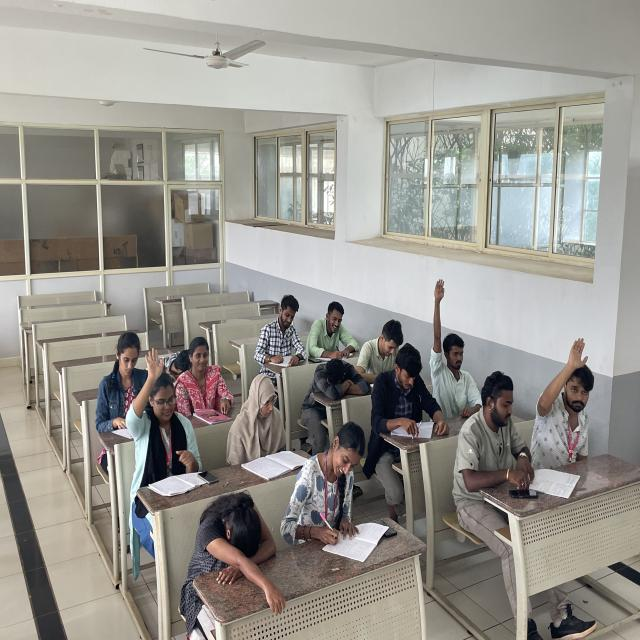Hand Rising: (128, 346, 195, 475), (532, 337, 598, 452), (426, 278, 482, 413)
Reading: (480, 373, 544, 488), (98, 330, 148, 443), (246, 368, 297, 472), (257, 286, 309, 376)
Sleeping: (196, 491, 279, 571), (305, 354, 368, 404), (154, 318, 200, 381)
Writing: (290, 416, 380, 550), (377, 338, 446, 443), (311, 300, 357, 358)
